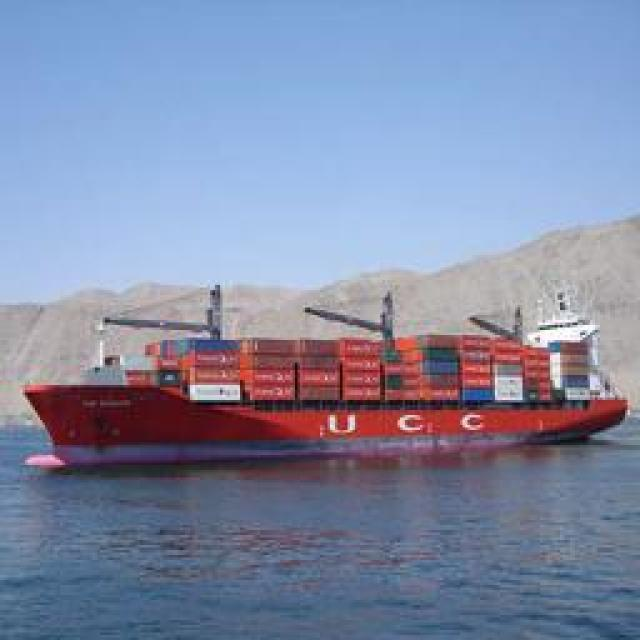CIV_Ship: (18, 300, 628, 462)
